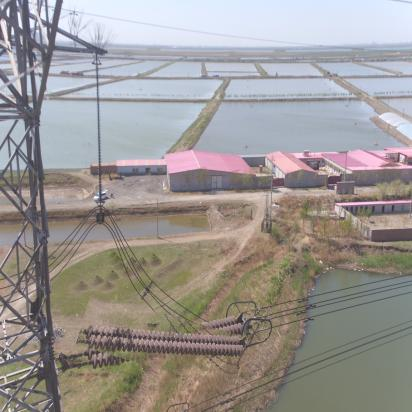insulator: (79, 305, 247, 381)
